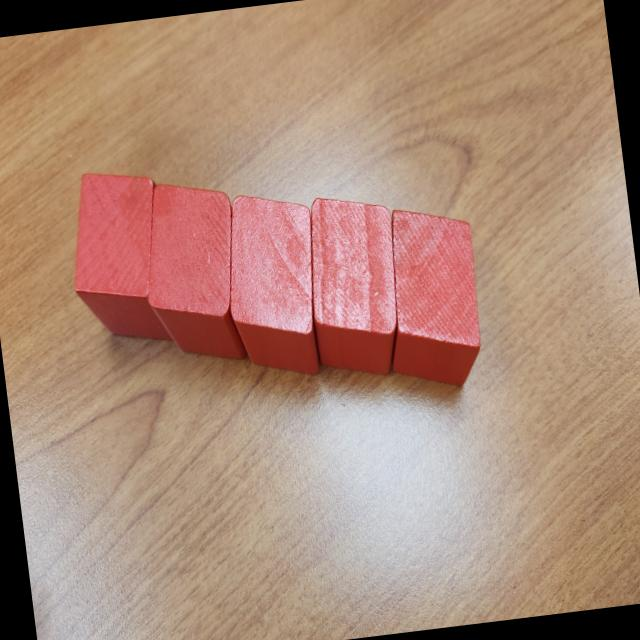red: (372, 200, 490, 396), (134, 175, 251, 372), (216, 187, 330, 386), (60, 164, 176, 352), (298, 190, 411, 382)
